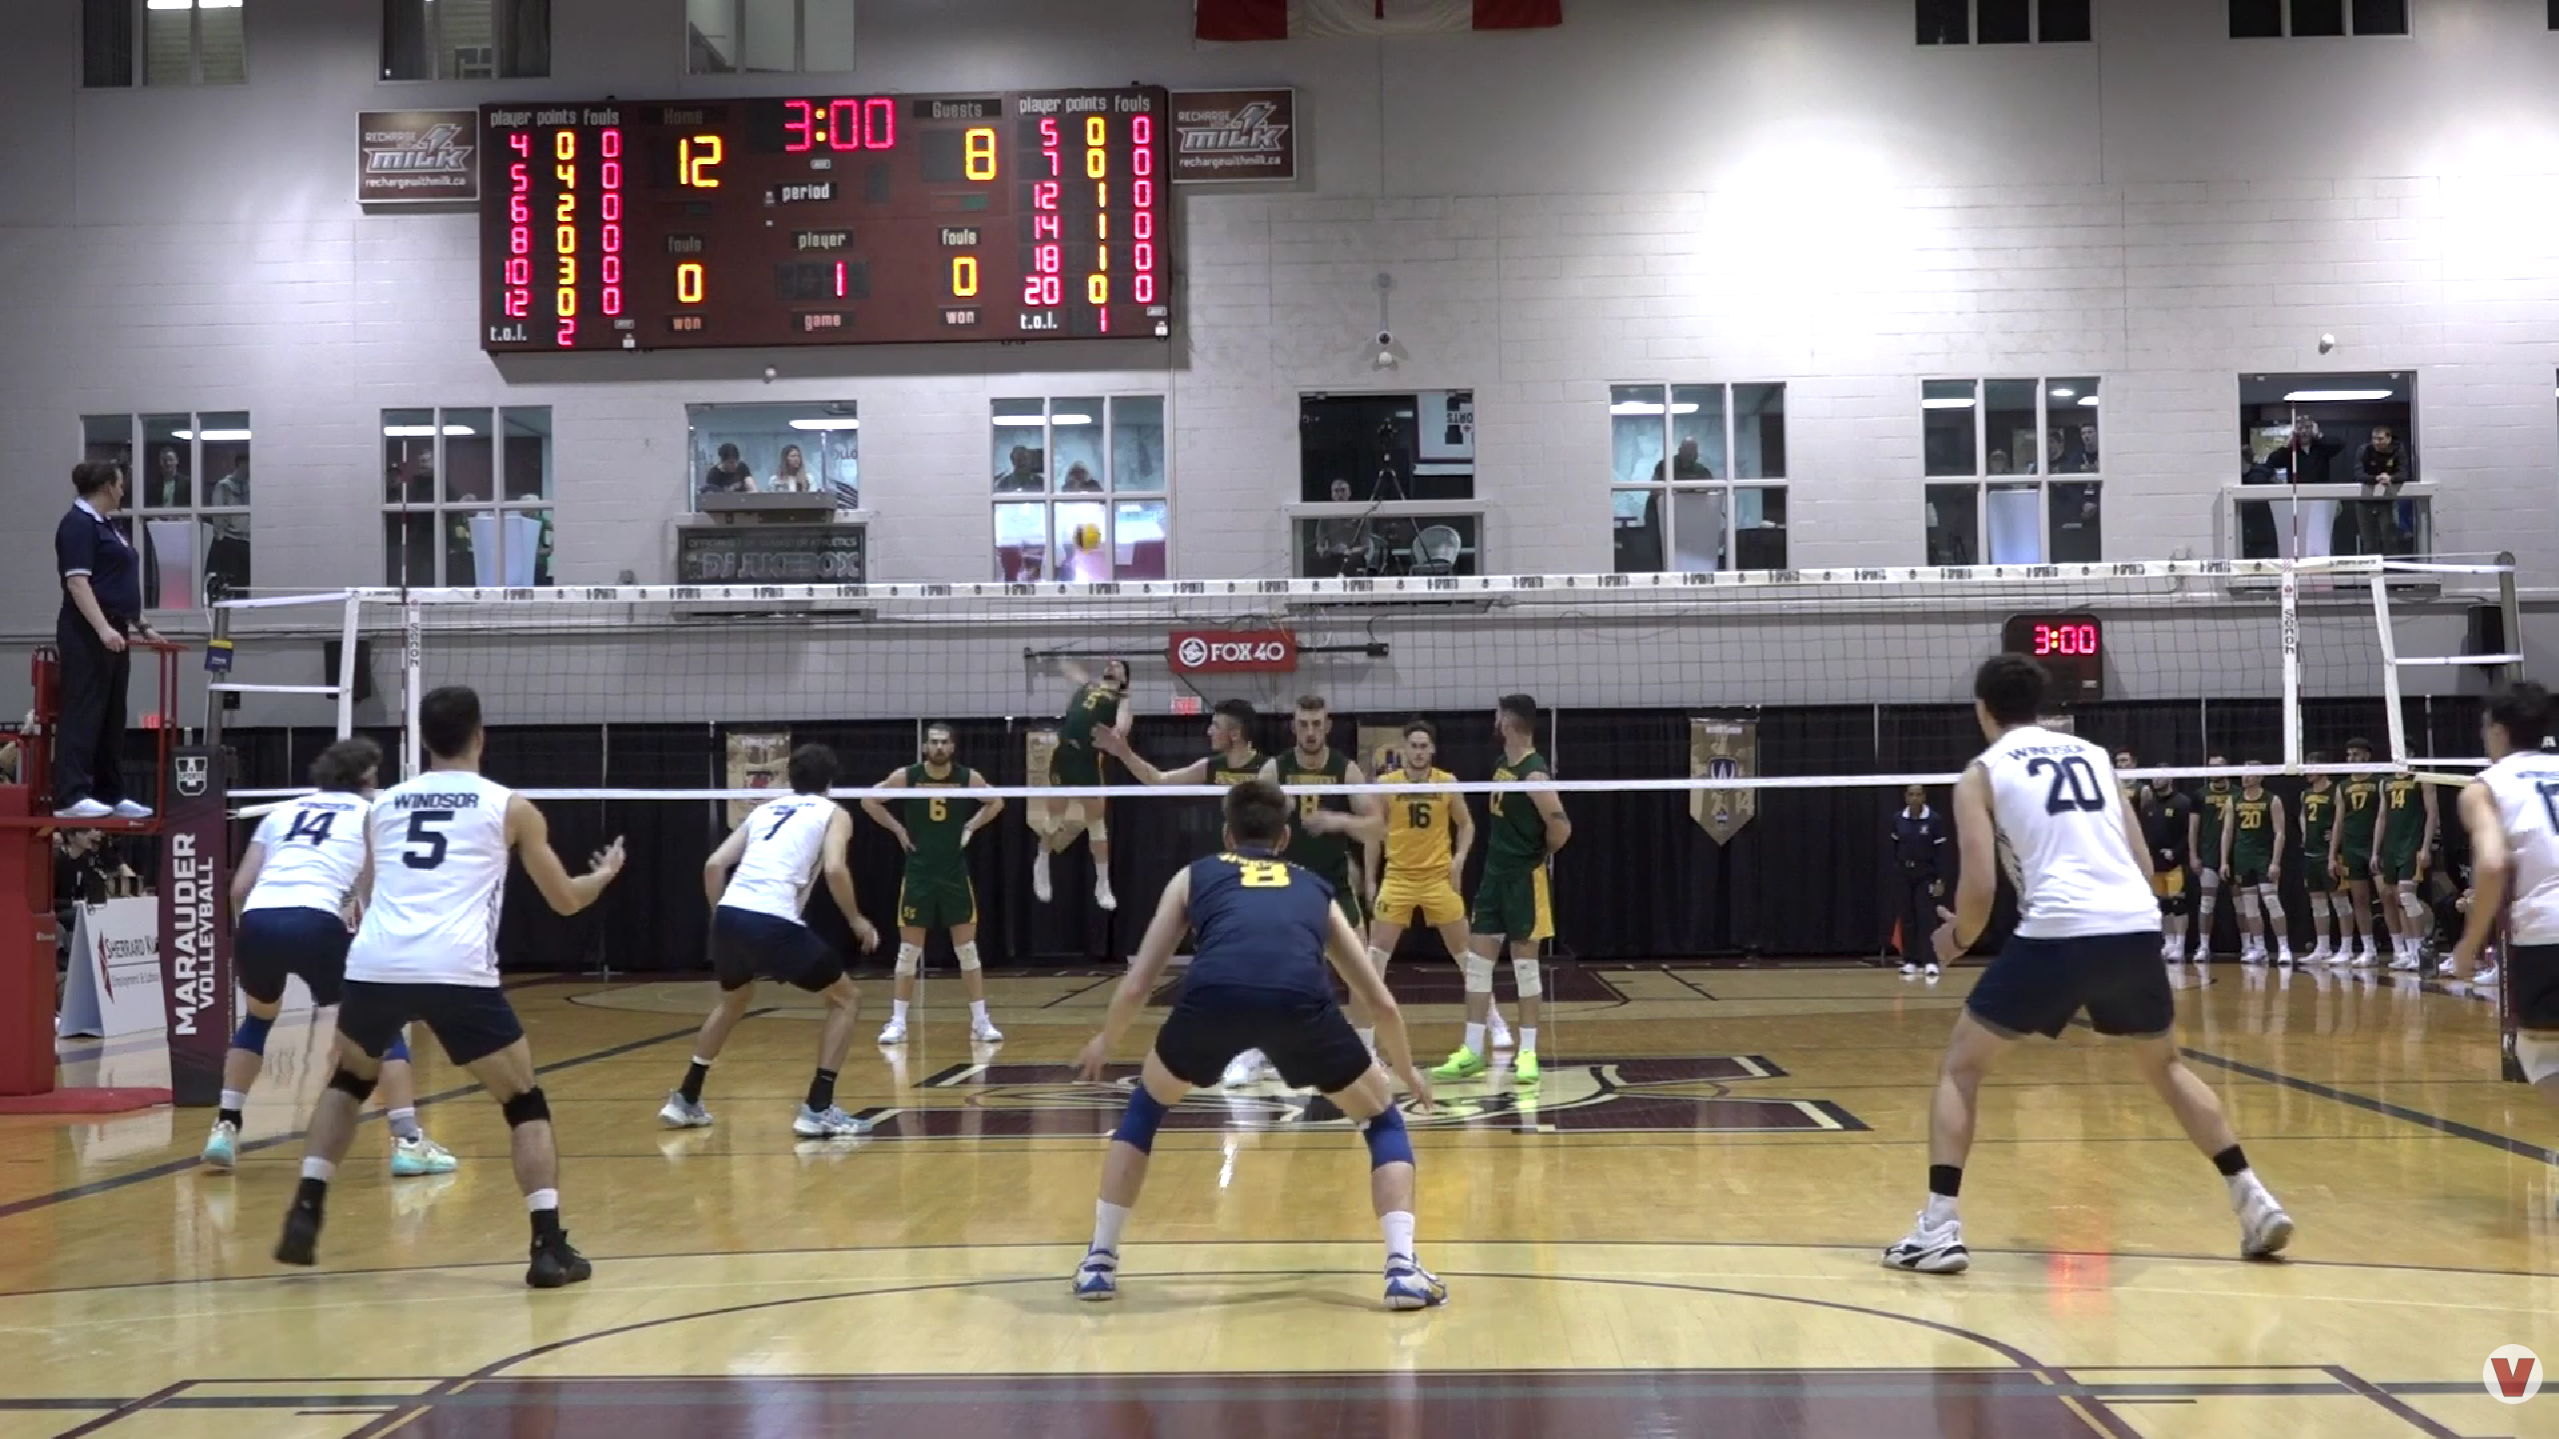Ball: (1072, 522, 1102, 553)
